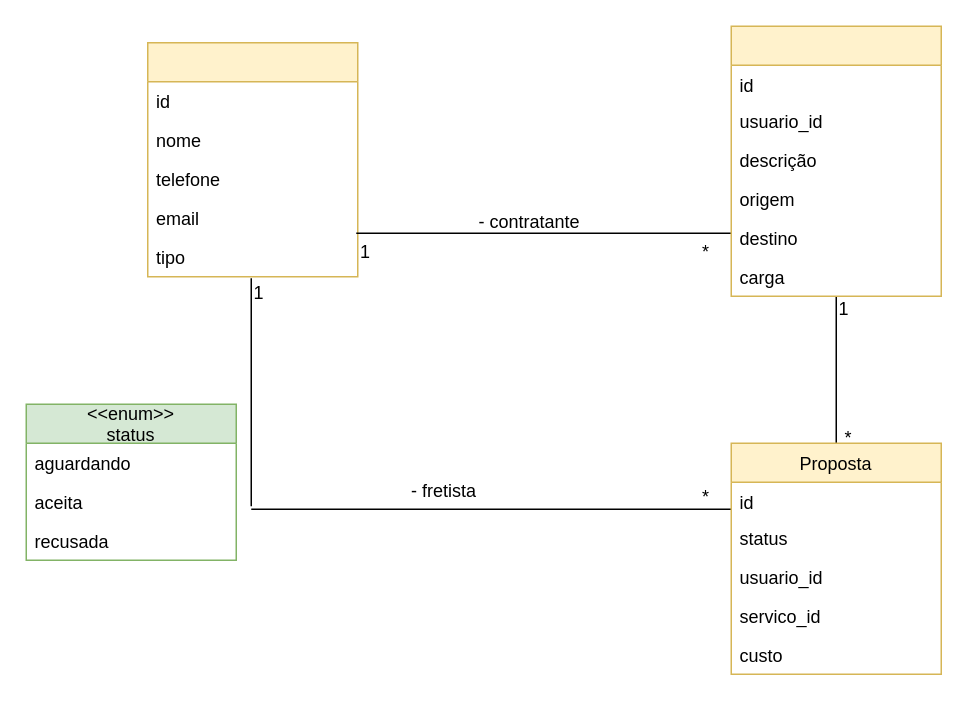
Some shapes in this 968 by 705 pixel diagram are drawn without their labels. The shapes that lost their labels are listed below. From the top down, each one's box as (x1, y1, x2, y2) in pixels, then its label:
(146, 41, 358, 277): Usuário
(730, 25, 941, 296): Serviço
